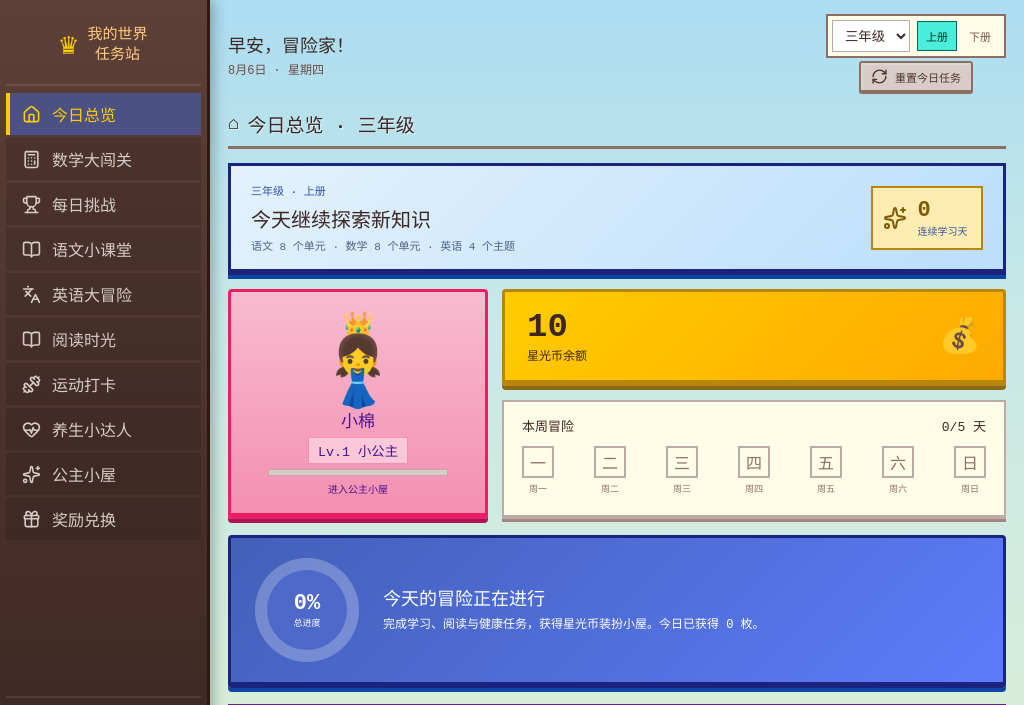
Test: application shell › navigates between the dashboard and learning pages
Expected: the heading "今日总览" is shown, [228, 110, 1006, 149]
Step 1. Click the button "数学大闯关" → (104, 159), box [6, 138, 201, 180]
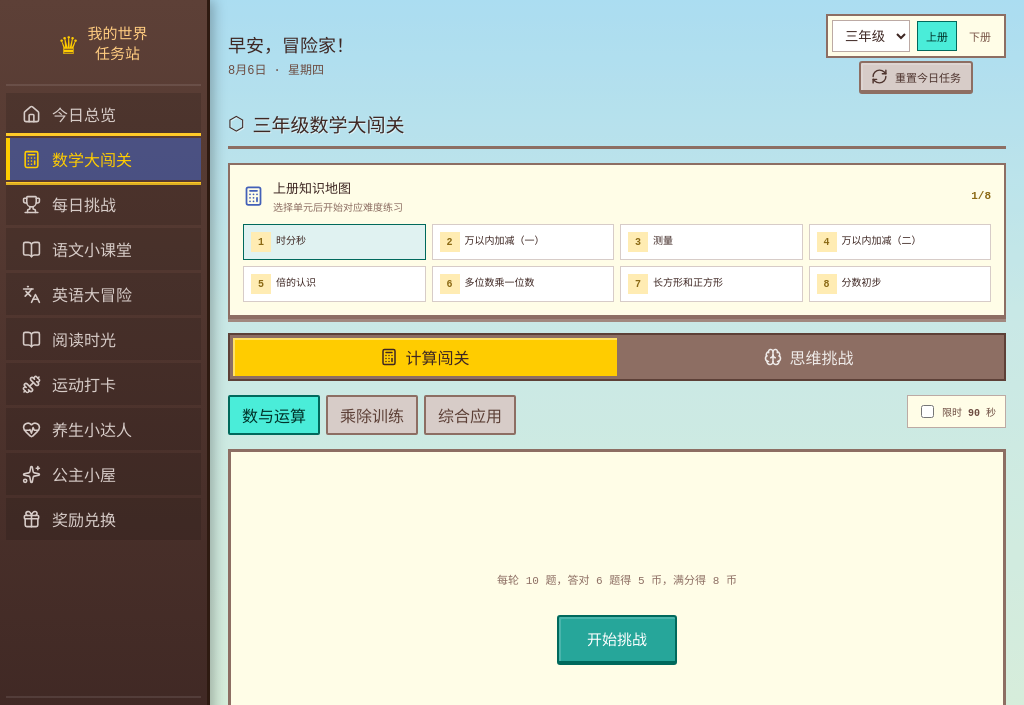
Expected: the heading "数学大闯关" is shown, [228, 110, 1006, 149]
Expected: the button "开始挑战" is shown, [557, 615, 677, 665]
